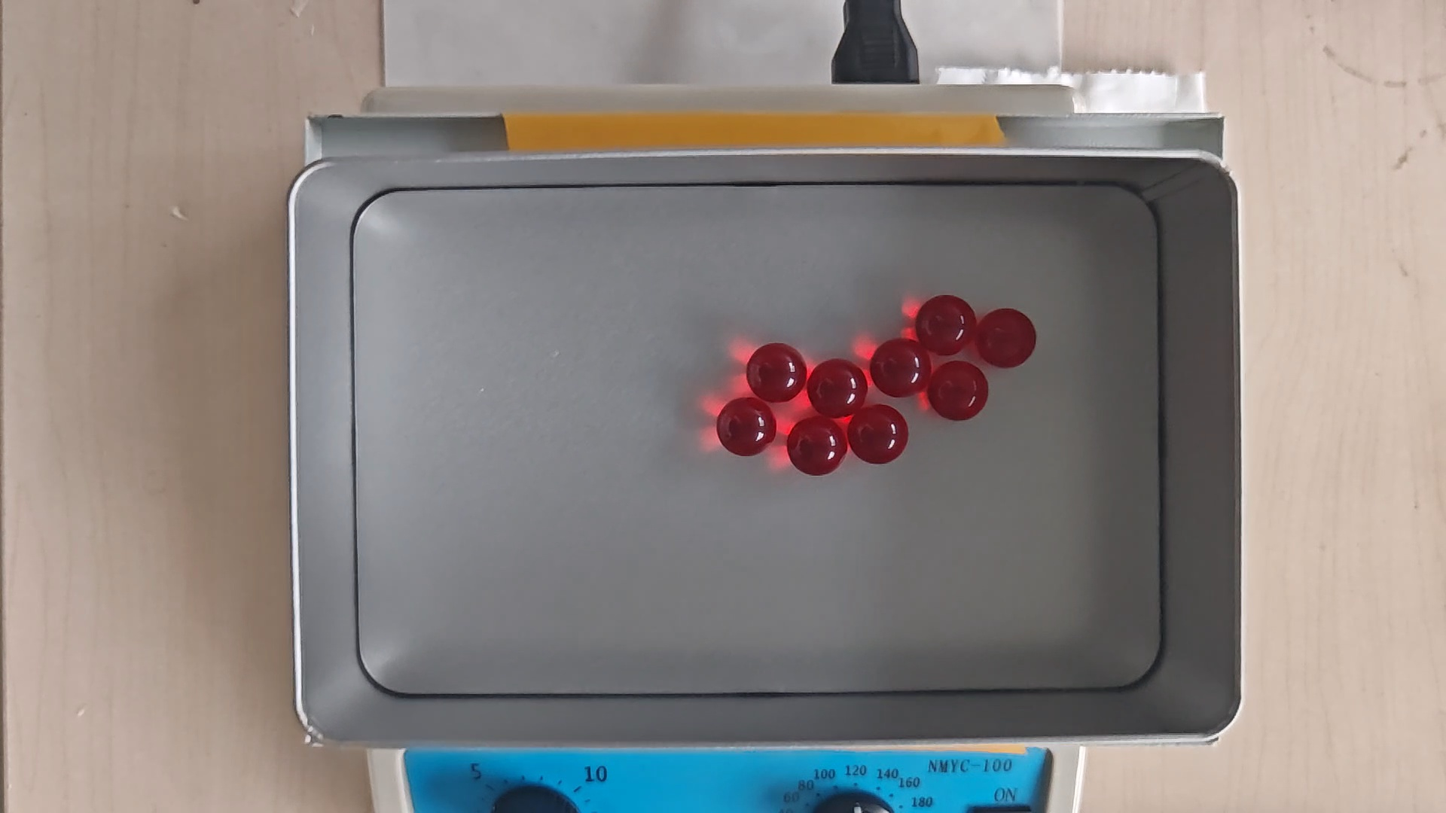ball: (928, 361, 989, 423), (916, 294, 975, 358), (871, 338, 932, 399), (716, 397, 776, 457), (849, 404, 908, 465), (747, 342, 807, 401), (978, 307, 1036, 368), (788, 417, 847, 476), (808, 358, 866, 418)
container: (347, 182, 1168, 687)
